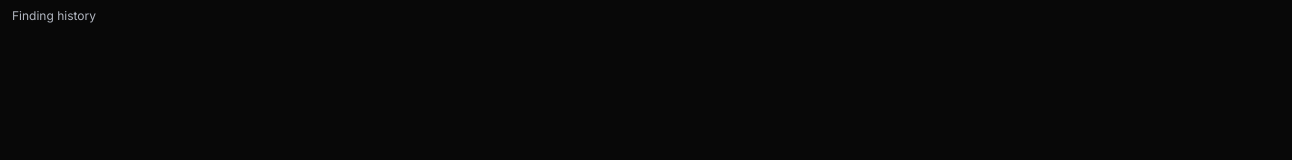
Test: RAW uses only API masked preview; RADAR never renders paths or previews; BLACKBOX full only
Later steps or results of the test are not shown.
What coordinates should you click on to do the following:
click the button "Finding history"
I would click on:
 (54, 16)
Its box is [12,8,96,24].
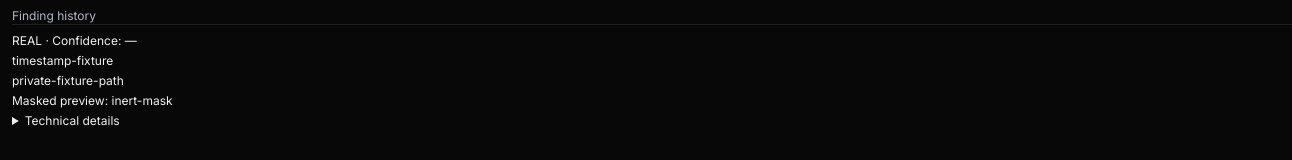
Now the element named "OSPEC rescan versions" shows "inert-mask", box [112,93,173,108]
